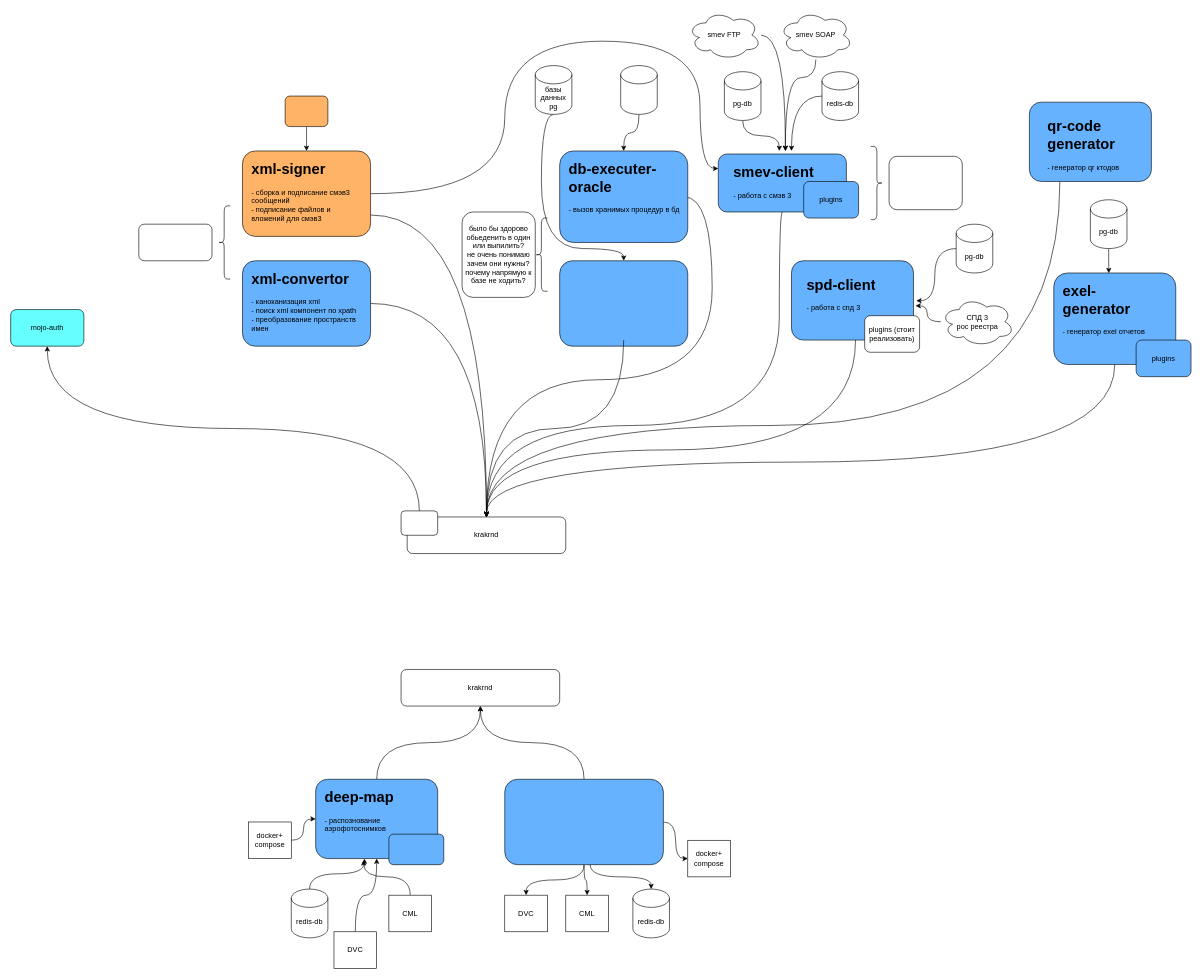
Some shapes in this 1202 by 979 pixel diagram are drawn without their labels. Each missing label, with the centre of its shape:
"cookie-auth" belongs at [419,522].
"cryptopro-jsp" belongs at [306,111].
"db-executer - вызов хранимых процедур в бд" belongs at [623,303].
"deep-map-cli" belongs at [416,849].
"satellite-analyser (в разработке) - обработка спутниковых снимков" belongs at [583,822].
"базы данных oracle" belongs at [638,89].
"В первпективе - объеденить эти 2 сервиса" belongs at [175,242].
"на данный момент сотоит из 5 различных частей. всех их стоит объеденить" belongs at [925,183].
